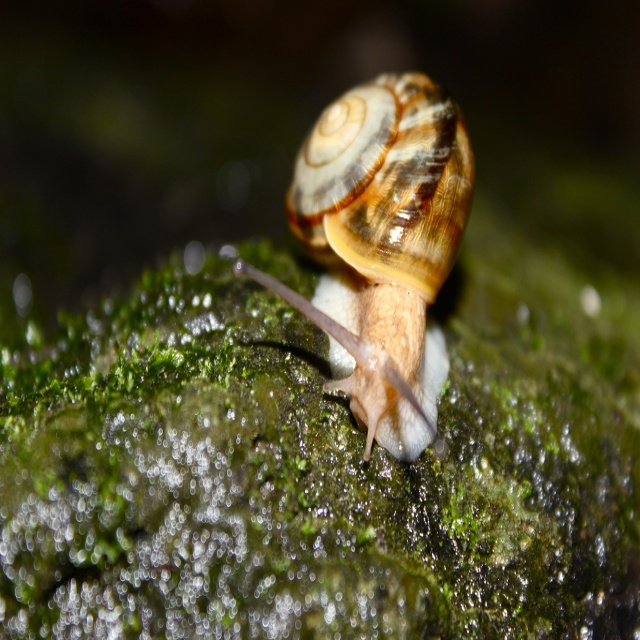Snail: (231, 70, 478, 466)
